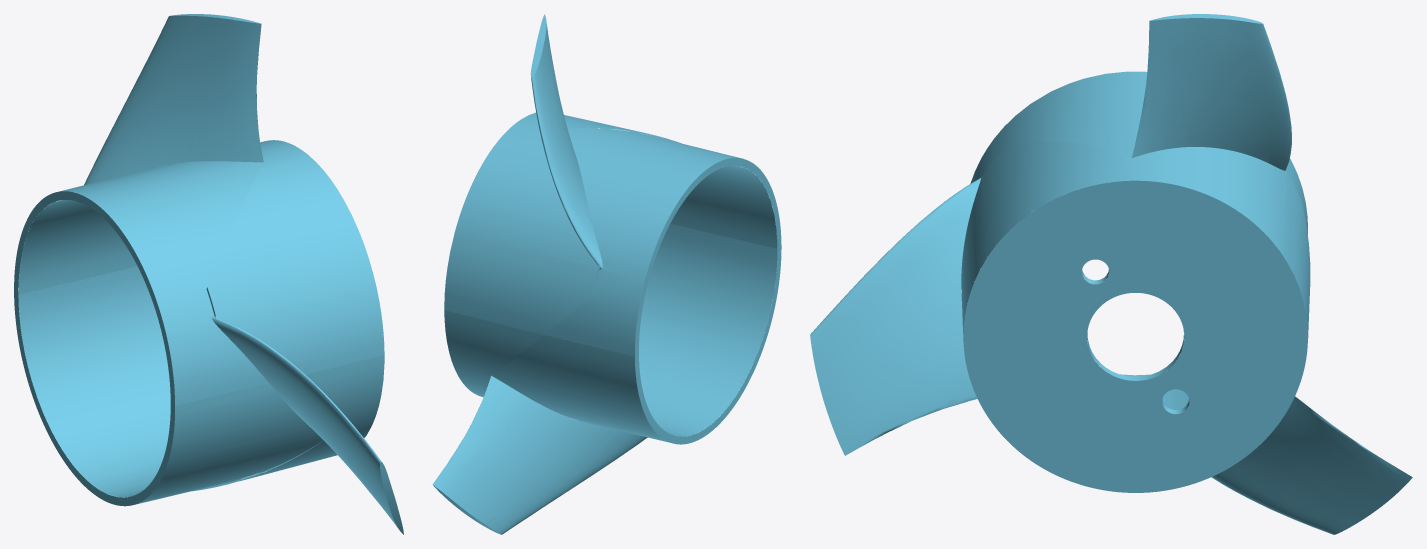
The model's file is bluerov2_propccw.glb.
The picture shows the model from 3 angles, left to right: view 1: azimuth 30°, elevation 25°; view 2: azimuth 150°, elevation 25°; view 3: azimuth 270°, elevation 25°; orthographic projection. The views are drawn at different scales.
Visible parts, largest first — view 1: PropCCW; view 2: PropCCW; view 3: PropCCW.
Part boxes in pixels (x1=…): PropCCW: x1=14, y1=14, x2=403, y2=534; PropCCW: x1=432, y1=14, x2=781, y2=534; PropCCW: x1=810, y1=14, x2=1412, y2=534.
Size of the model in its own units: 0.03 by 0.0685 by 0.07.
